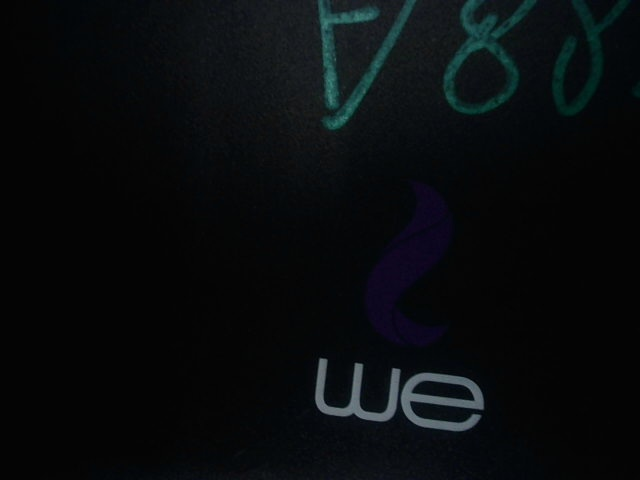AT_We: (305, 170, 491, 436)
